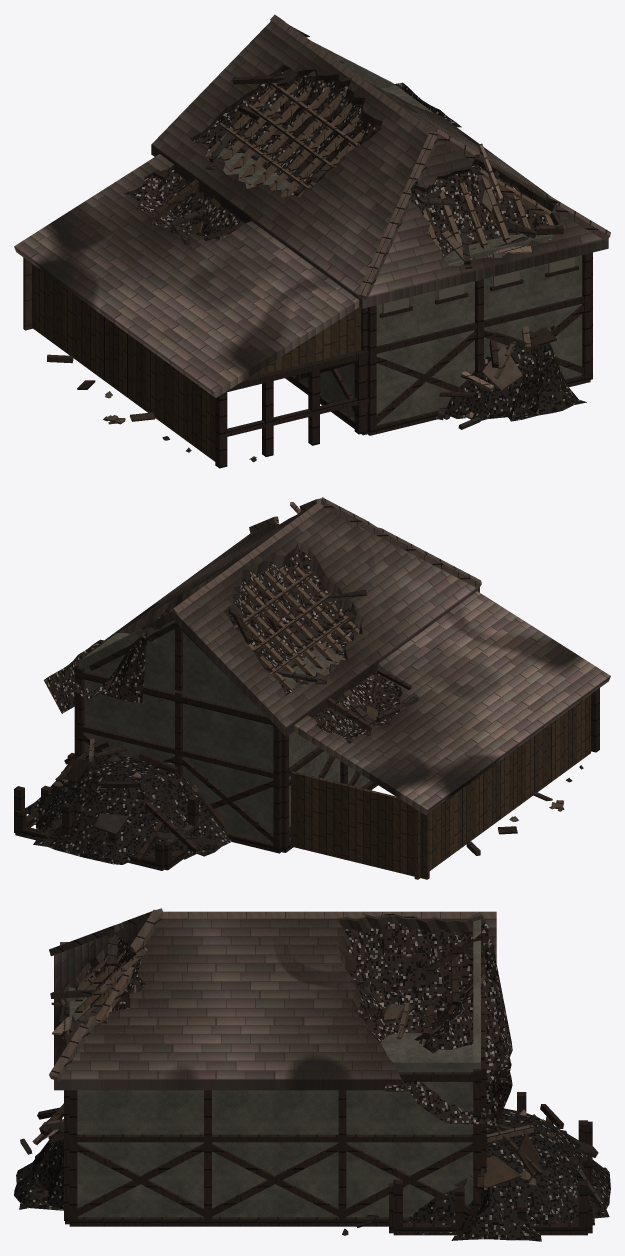
The model's file is Arabuild06a.glb.
3 renders of one model, top to bottom at view 1: azimuth 30°, elevation 25°; view 2: azimuth 150°, elevation 25°; view 3: azimuth 270°, elevation 25°, orthographic. The views are drawn at different scales.
Visible parts, largest first — view 1: Arabuild06a_wrafter; view 2: Arabuild06a_wrafter; view 3: Arabuild06a_wrafter.
Boxes of the visible parts, <box> form: Arabuild06a_wrafter: <box>14,14,610,468</box>; Arabuild06a_wrafter: <box>14,497,610,879</box>; Arabuild06a_wrafter: <box>14,908,610,1241</box>.
Bounding box in the file's own units: 13.91 × 7.37 × 15.38.
Materials: 20 (19 with a texture image).
